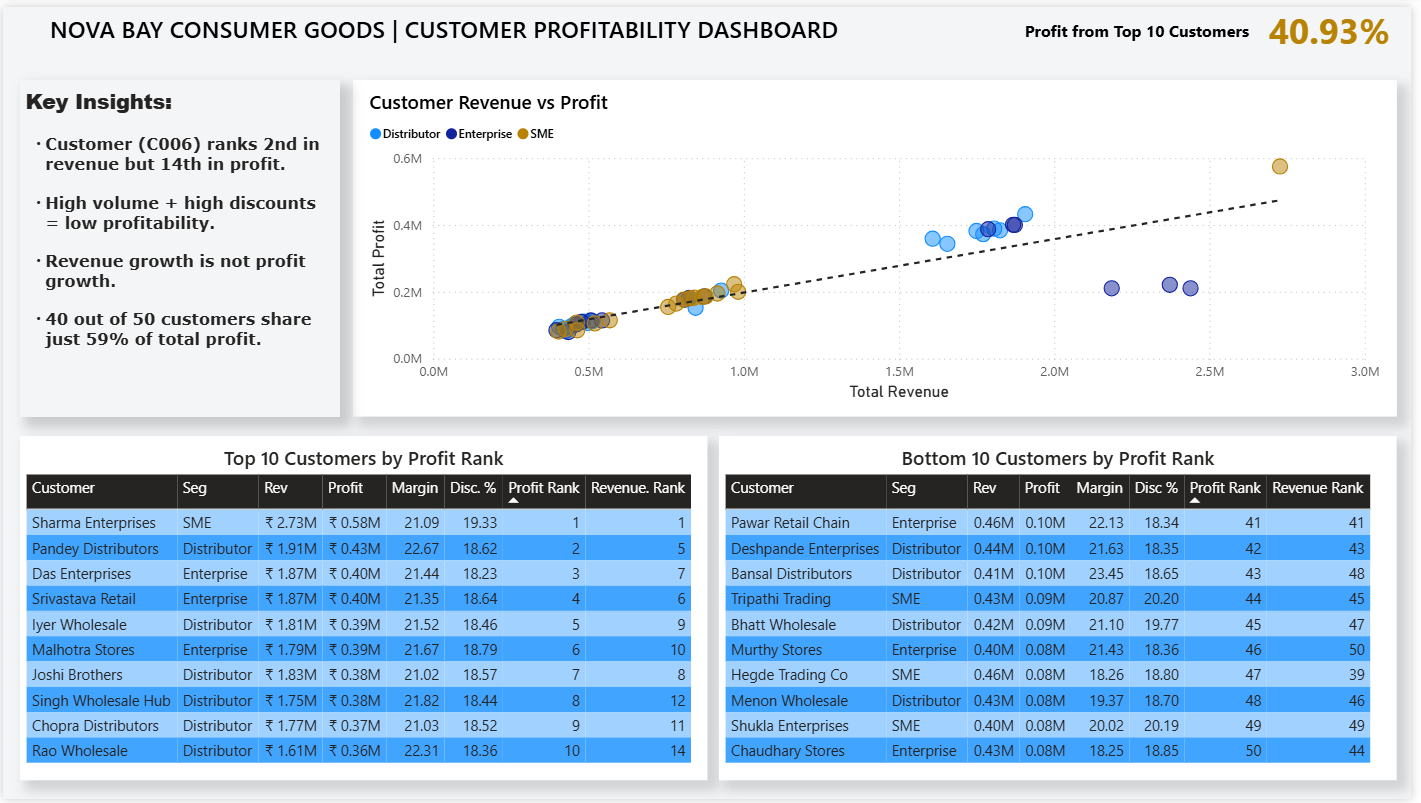

Layout of this report page (visuals, bound fields, positions):
{"tool":"powerbi","page":{"name":"Customer Profitability","canvas":[1280,720],"ordinal":1},"visuals":[{"type":"scatterChart","title":"Customer Revenue vs Profit","fields":{"X":["_Measures.Total Revenue"],"Y":["_Measures.Total Profit"],"Category":["novabay_db fact_sales.customer_name"],"Series":["novabay_db fact_sales.customer_segment"]},"box":[318.3,66.5,948.8,305.9],"z":0},{"type":"tableEx","title":"Top 10 Customers by Profit Rank","fields":{"Values":["novabay_db vw_customer_profitability.customer_name","novabay_db vw_customer_profitability.customer_segment","Sum(novabay_db vw_customer_profitability.total_revenue)","Sum(novabay_db vw_customer_profitability.total_profit)","Sum(novabay_db vw_customer_profitability.profit_margin_pct)","Sum(novabay_db vw_customer_profitability.avg_discount_pct)","Sum(novabay_db vw_customer_profitability.profit_rank)","Sum(novabay_db vw_customer_profitability.revenue_rank)"]},"box":[15.1,390.1,625.1,313],"z":1000},{"type":"tableEx","title":"Bottom 10 Customers by Profit Rank","fields":{"Values":["novabay_db vw_customer_profitability.customer_name","novabay_db vw_customer_profitability.customer_segment","Sum(novabay_db vw_customer_profitability.total_revenue)","Sum(novabay_db vw_customer_profitability.total_profit)","Sum(novabay_db vw_customer_profitability.profit_margin_pct)","Sum(novabay_db vw_customer_profitability.avg_discount_pct)","Sum(novabay_db vw_customer_profitability.profit_rank)","Sum(novabay_db vw_customer_profitability.revenue_rank)"]},"box":[650.8,390.1,616.3,313],"z":2000},{"type":"textbox","box":[15.1,66.5,290.8,305.9],"z":3000},{"type":"card","title":"Top 10 Customers — Profit Share","fields":{"Values":["_Measures.Top 10 Profit Share %"]},"box":[1143.8,3.5,124.1,36.4],"z":4000},{"type":"textbox","box":[8.9,0,783.8,40.8],"z":5000},{"type":"textbox","box":[918.6,6.2,225.2,33.7],"z":6000}]}

Visuals, with their boxes in screenshot pixels (x1, y1, x2, y2), scaled from the page's 1280x720 canvas onto the 1421x803 screenshot:
"Customer Revenue vs Profit" scatterChart: BBox(353, 74, 1407, 415)
"Top 10 Customers by Profit Rank" tableEx: BBox(17, 435, 711, 784)
"Bottom 10 Customers by Profit Rank" tableEx: BBox(722, 435, 1407, 784)
textbox: BBox(17, 74, 340, 415)
"Top 10 Customers — Profit Share" card: BBox(1270, 4, 1408, 44)
textbox: BBox(10, 0, 880, 46)
textbox: BBox(1020, 7, 1270, 44)
